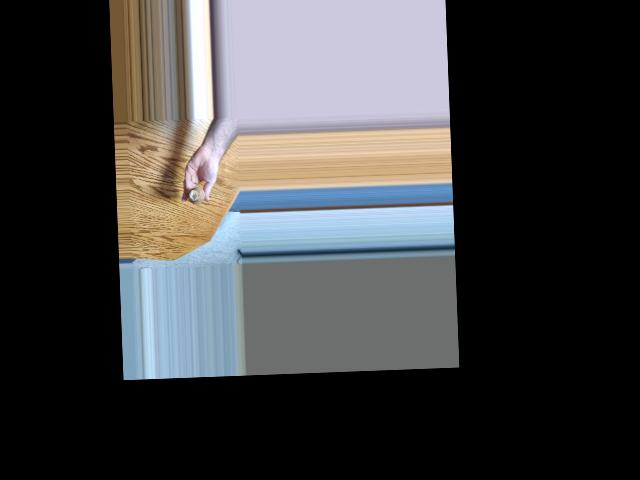sweet_potato: (188, 188, 207, 205)
